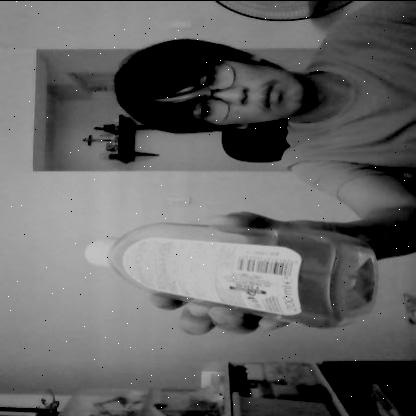Plastic Bottle: (73, 210, 390, 331)
